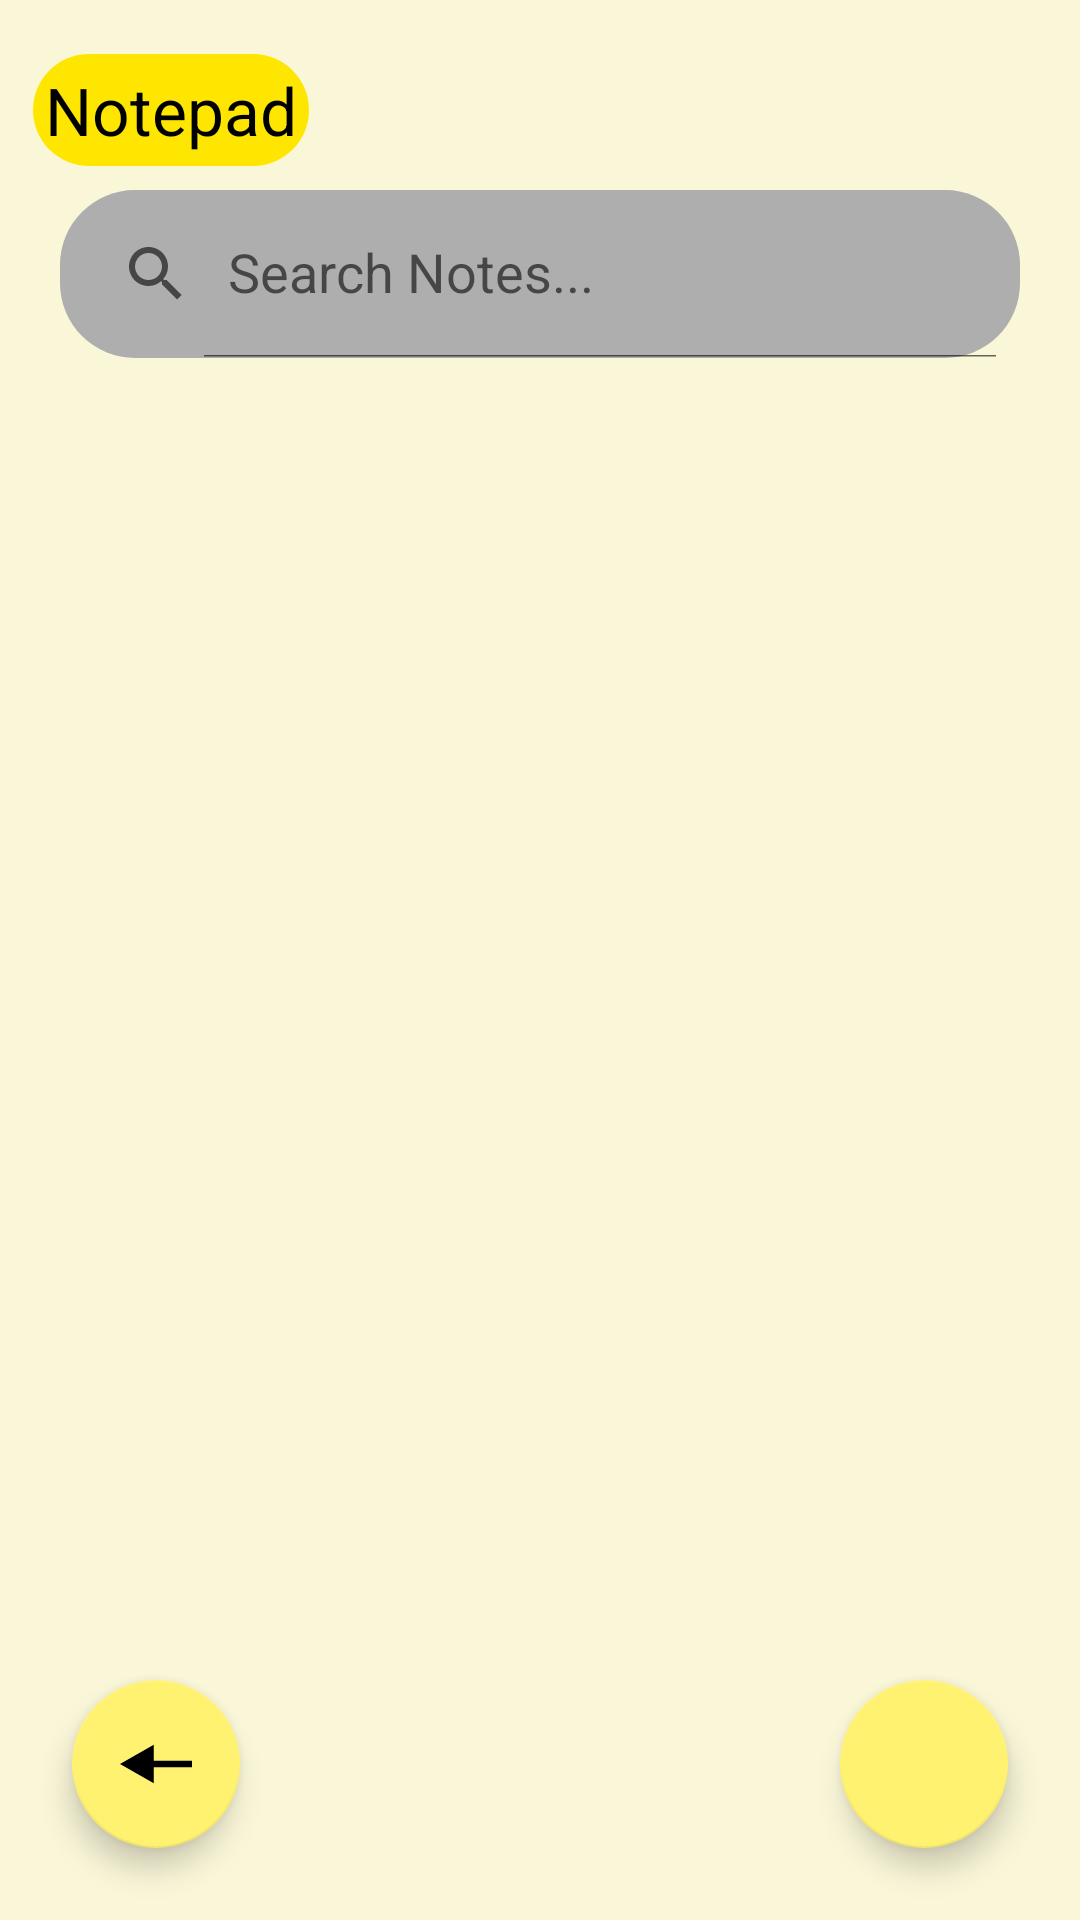

Point at icon controls on the screen. Image size 1080w x 1920h, points as point (x, y).
back arrow: point (156, 1764)
